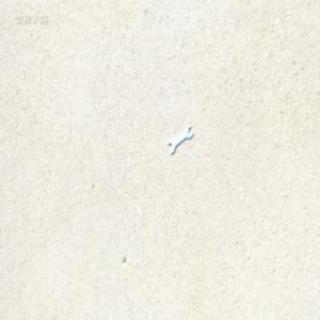Wrenchtrack_idkeyframe: (166, 124, 190, 154)
